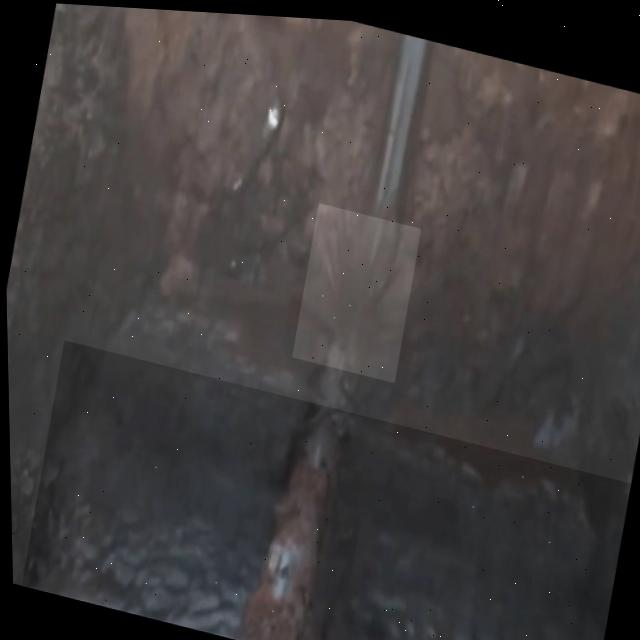spillage: (19, 340, 629, 640), (290, 199, 420, 378)
